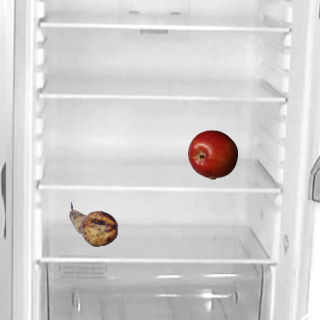Apple Braeburn: (187, 129, 237, 179)
Pear Abate: (68, 199, 118, 249)
